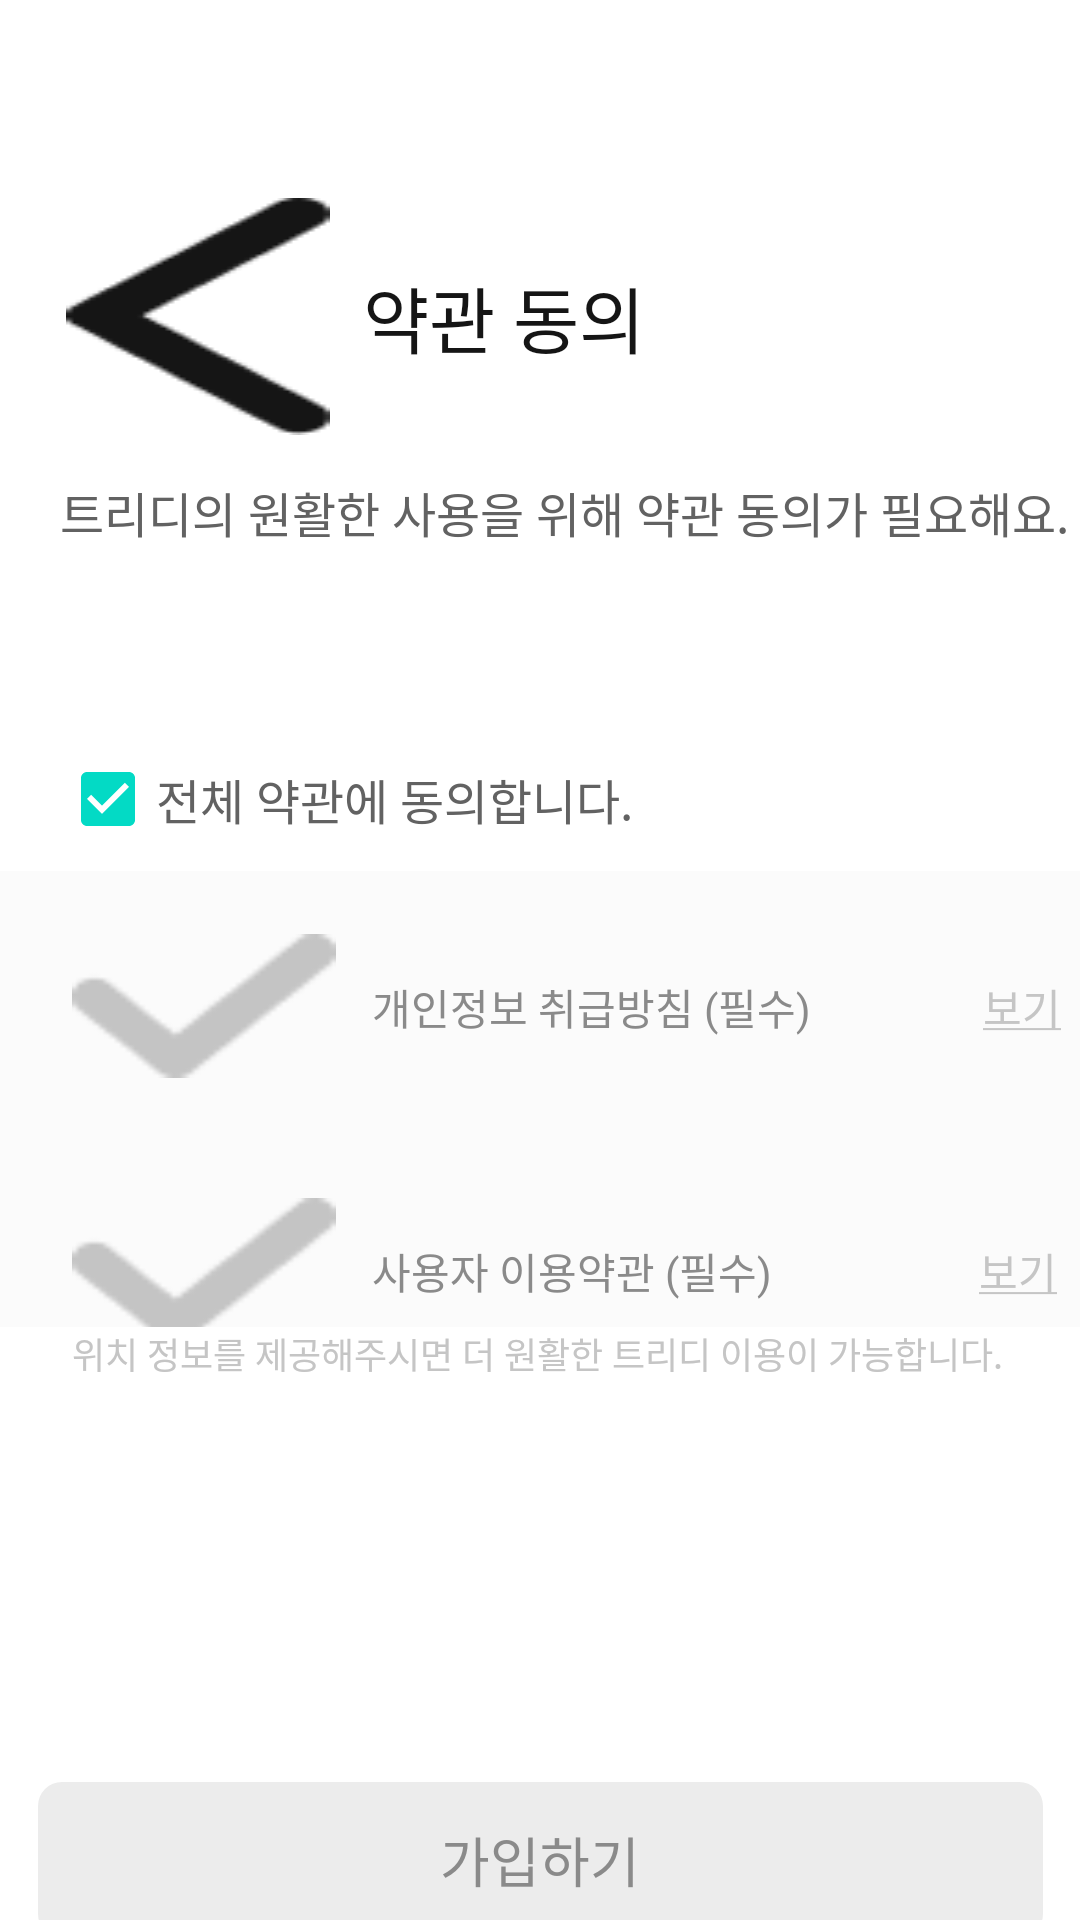

Screen size 1080w x 1920h. Icon name, then its center in pixels as (x,y):
back: (198,316)
